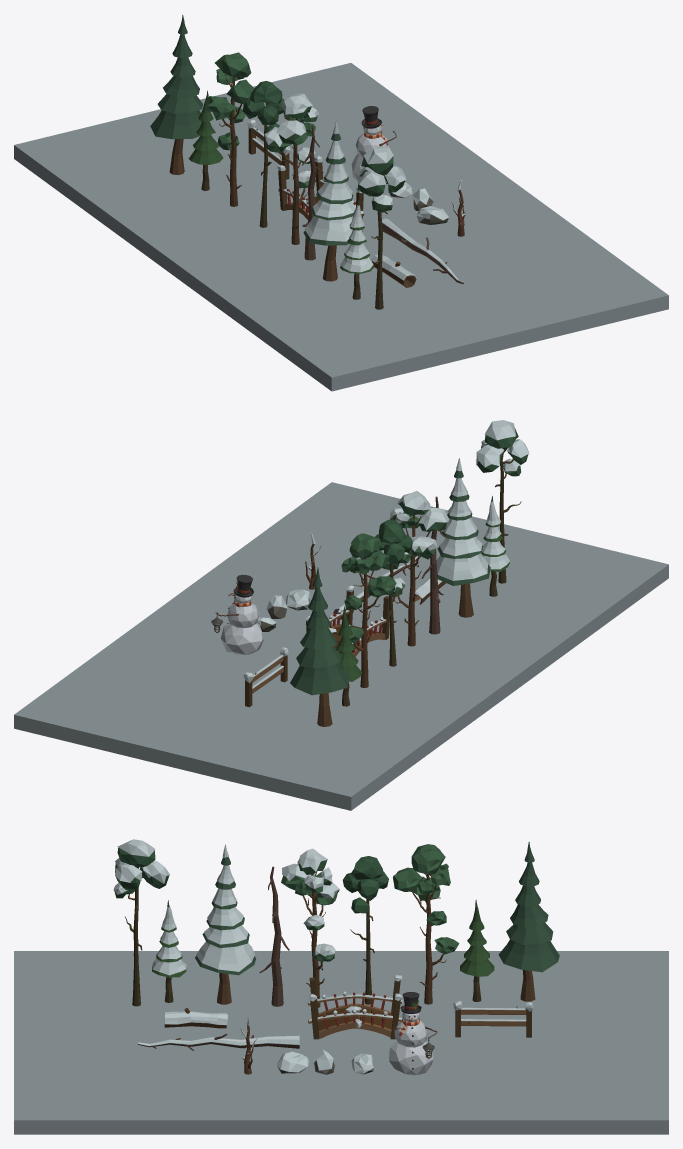
Rendered from WinterCollection.fbx.
3 views of the same model, one above another, from view 1: azimuth 30°, elevation 25°; view 2: azimuth 150°, elevation 25°; view 3: azimuth 270°, elevation 25° (orthographic). The views are drawn at different scales.
Visible parts, largest first — view 1: Plane, spruce03, spruce01, fir02, fir01, pine02, pine01, spruce04, spruce02, snowman, bridge, dry pine01 (+3 smaller); view 2: Plane, spruce03, spruce01, fir02, fir01, pine02, snowman, pine01, spruce04, bridge, spruce02, fence (+1 smaller); view 3: Plane, spruce03, spruce01, fir01, bridge, fir02, pine02, snowman, pine01, spruce04, spruce02, fence (+4 smaller).
Part boxes in pixels (box(x1,y1,x2,y2)): Plane: box(14, 63, 668, 391); spruce03: box(303, 121, 362, 281); spruce01: box(150, 14, 203, 175); fir02: box(264, 93, 319, 244); fir01: box(206, 52, 254, 206); pine02: box(357, 146, 406, 309); pine01: box(242, 81, 284, 227); spruce04: box(340, 199, 374, 299); spruce02: box(188, 90, 223, 190); snowman: box(351, 106, 396, 182); bridge: box(277, 155, 364, 219); dry pine01: box(382, 218, 464, 284); Plane: box(14, 482, 668, 810); spruce03: box(436, 458, 490, 617); spruce01: box(290, 567, 349, 726); fir02: box(390, 491, 448, 646); fir01: box(341, 533, 396, 687); pine02: box(476, 420, 529, 583); snowman: box(211, 574, 264, 654); pine01: box(375, 519, 412, 666); spruce04: box(481, 496, 509, 596); bridge: box(305, 585, 389, 656); spruce02: box(336, 606, 362, 706); fence: box(243, 647, 288, 707); Plane: box(14, 951, 668, 1134); spruce03: box(195, 844, 256, 1004); spruce01: box(498, 841, 559, 1001); fir01: box(393, 844, 459, 1004); bridge: box(307, 974, 402, 1039); fir02: box(281, 848, 339, 1007); pine02: box(113, 839, 169, 1006); snowman: box(389, 992, 437, 1075); pine01: box(342, 856, 388, 1004); spruce04: box(152, 900, 186, 1002); spruce02: box(460, 899, 494, 1001); fence: box(453, 1001, 533, 1037).
Bounding box in the file's own units: 1276 × 622 × 2084.
